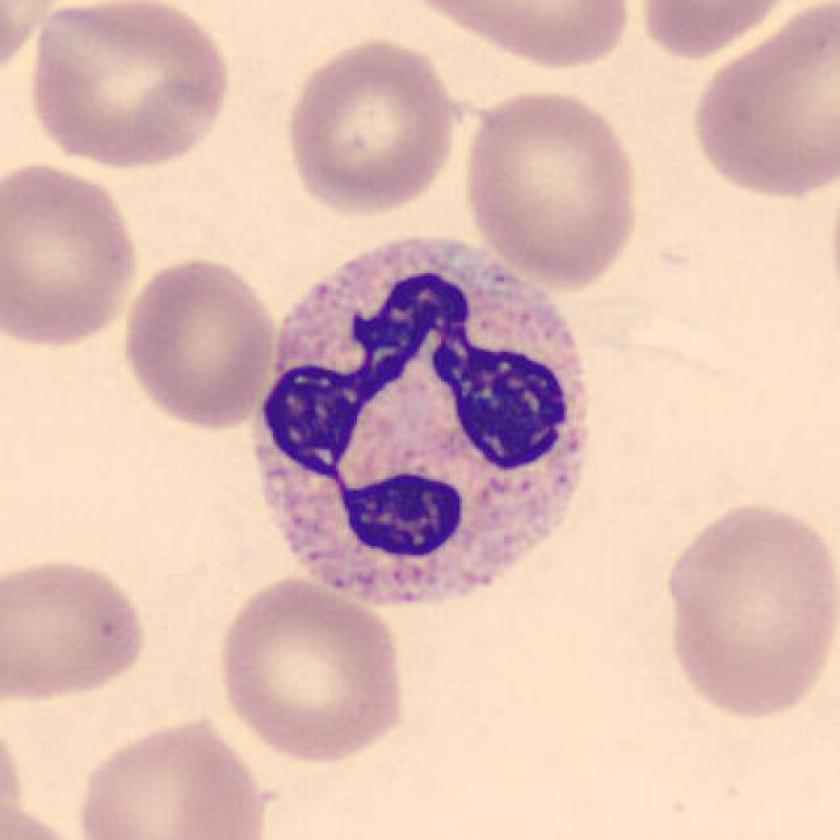neutrophil: (256, 237, 588, 610)
